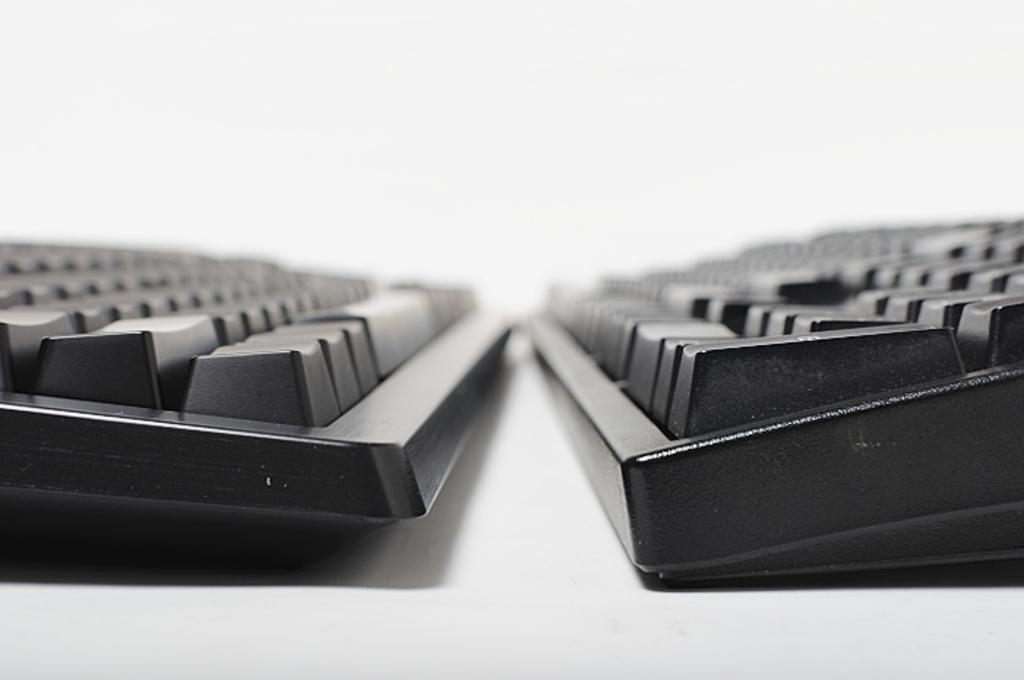Computer-keyboard: (525, 215, 1023, 586), (0, 237, 513, 567)
